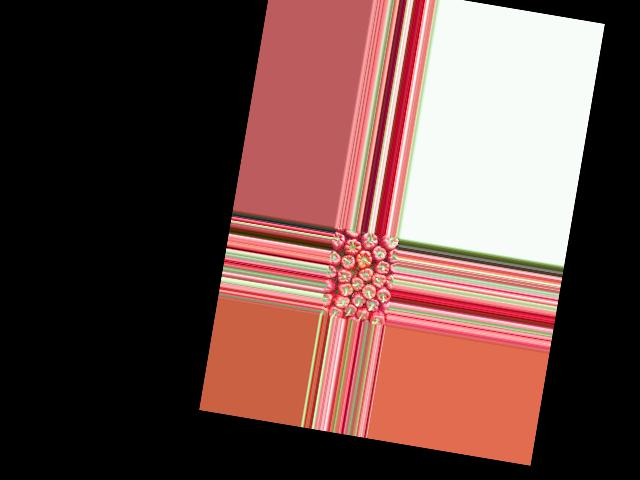bell_pepper: (370, 309, 386, 325)
